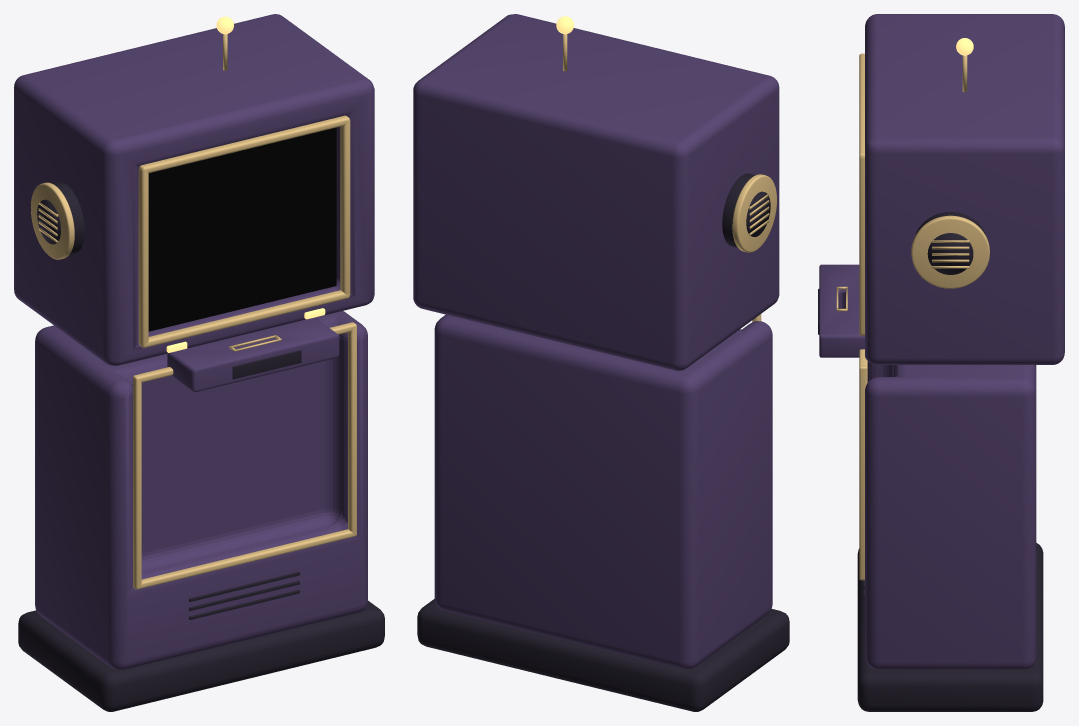
Rendered from machine.glb.
3 renders of one model, left to right at view 1: azimuth 30°, elevation 25°; view 2: azimuth 150°, elevation 25°; view 3: azimuth 270°, elevation 25°, orthographic.
Parts seen in each view (by area): view 1: body, head, visor, base, shelf, bezel_t, bezel_b, frame_b, bezel_l, frame_l, bezel_r, frame_r (+4 smaller); view 2: head, body, base, ear_ring_-1, ear_-1, ear_grill_-1; view 3: head, body, base, shelf, ear_ring_1, frame_r, ear_grill_1, bezel_r, bezel_t.
Part boxes in pixels (bbox=[...]): body: bbox=[35, 311, 367, 669]; head: bbox=[14, 14, 374, 365]; visor: bbox=[148, 127, 336, 331]; base: bbox=[18, 600, 384, 711]; shelf: bbox=[167, 317, 339, 392]; bezel_t: bbox=[139, 115, 349, 173]; bezel_b: bbox=[140, 290, 349, 347]; frame_b: bbox=[140, 529, 353, 588]; bezel_l: bbox=[138, 168, 148, 346]; frame_l: bbox=[133, 375, 141, 589]; bezel_r: bbox=[340, 120, 350, 295]; frame_r: bbox=[348, 322, 356, 536]; head: bbox=[413, 14, 779, 370]; body: bbox=[434, 314, 772, 669]; base: bbox=[417, 599, 789, 711]; ear_ring_-1: bbox=[732, 174, 776, 252]; ear_-1: bbox=[722, 173, 755, 247]; ear_grill_-1: bbox=[746, 191, 770, 236]; head: bbox=[865, 14, 1064, 364]; body: bbox=[865, 361, 1036, 669]; base: bbox=[857, 543, 1043, 711]; shelf: bbox=[819, 264, 864, 357]; ear_ring_1: bbox=[911, 215, 989, 288]; frame_r: bbox=[859, 365, 867, 580]; ear_grill_1: bbox=[927, 233, 973, 274]; bezel_r: bbox=[859, 156, 864, 334]; bezel_t: bbox=[859, 53, 864, 156].
Bounding box in the file's own units: 25.02 × 48.12 × 17.28.
